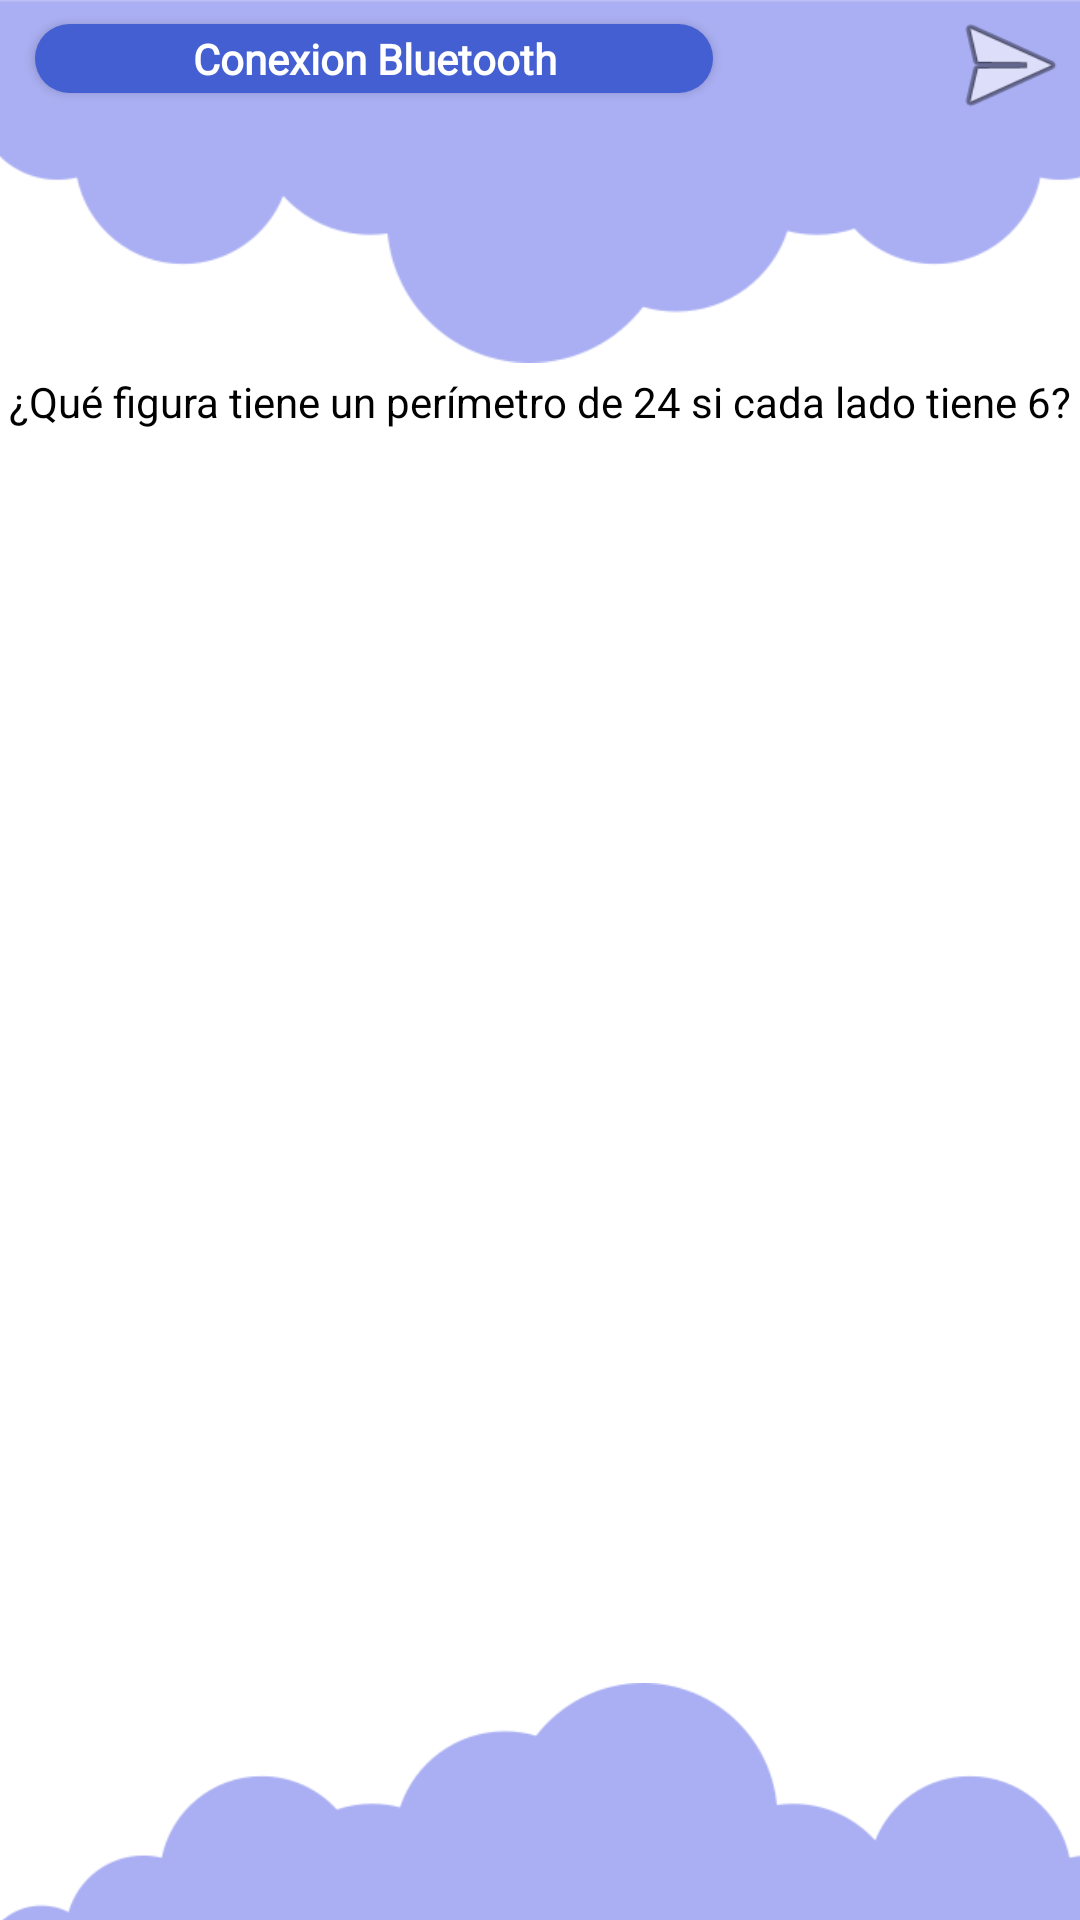

Screen size 1080px×1920px. Icon name, then its center in pixels as (x=x, y=y):
send: (x=1010, y=65)
